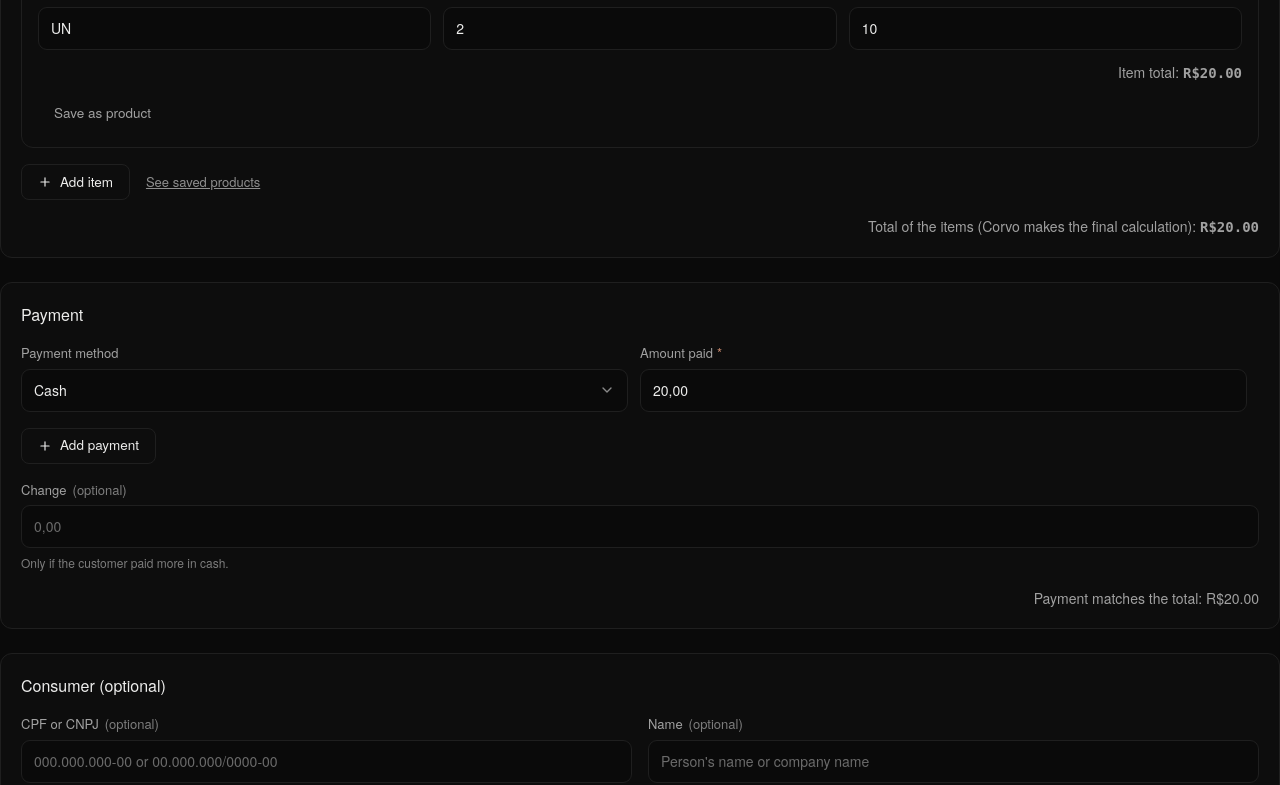
Test: NfceForm › card fields appear only for credit, debit and Pix
The width and height of the screenshot is (1280, 785).
(page scrolled)
Expected: the field labelled "Card brand" is not shown
Select "Credit card" in the dropdown labelled "Payment method" at [324, 390], box [21, 368, 628, 412]
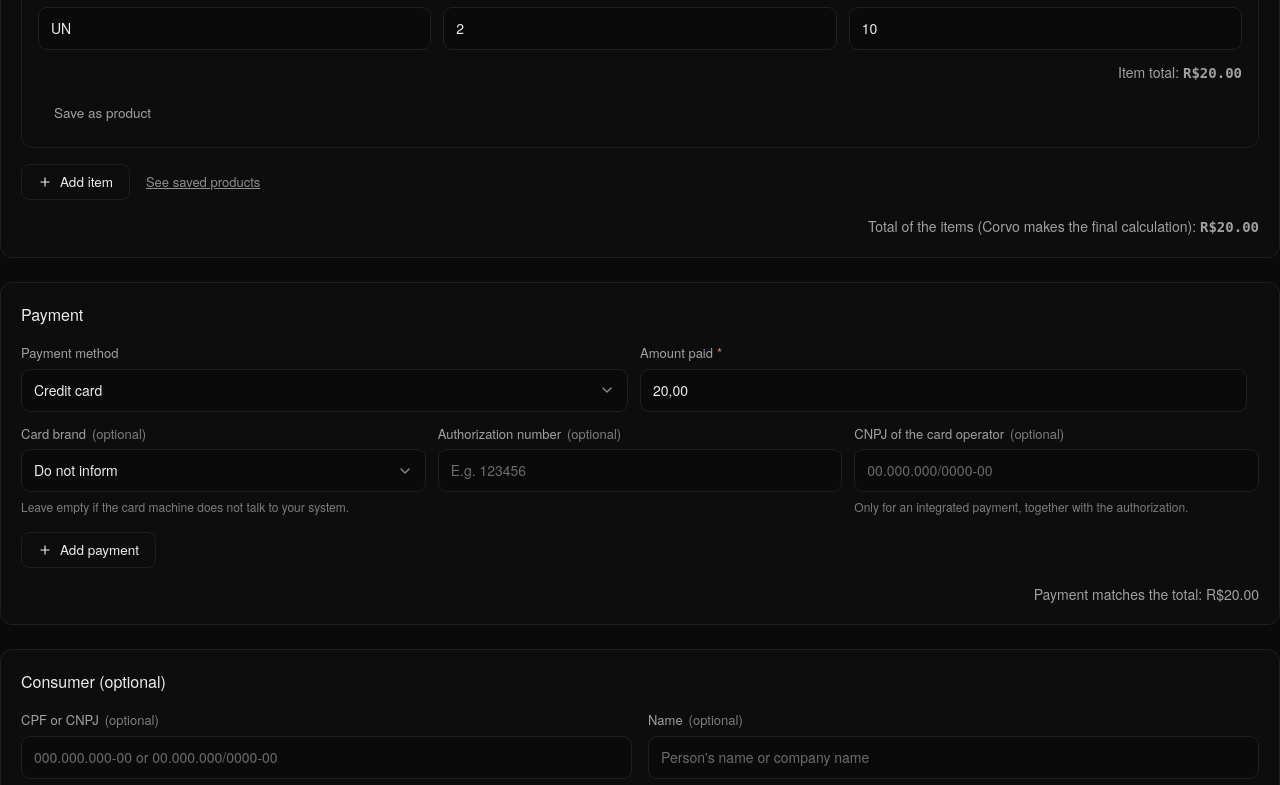
Expected: the dropdown labelled "Card brand(optional)" is shown, [21, 449, 426, 492]
